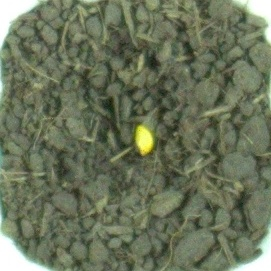chilli seed: (132, 123, 156, 157)
